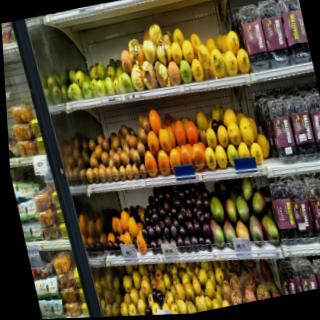fruit: (238, 0, 273, 71), (268, 176, 303, 245), (258, 0, 294, 67), (266, 94, 300, 162), (285, 93, 318, 155), (279, 0, 310, 64), (288, 183, 319, 243), (305, 173, 320, 244), (170, 115, 192, 155), (140, 150, 161, 183), (260, 210, 280, 242), (182, 118, 203, 147), (209, 48, 228, 79), (237, 116, 257, 145), (209, 219, 227, 251), (147, 107, 165, 139), (246, 211, 264, 242), (188, 139, 206, 169), (165, 58, 184, 86), (209, 193, 227, 222), (202, 142, 220, 170), (221, 219, 238, 248), (167, 146, 183, 176), (226, 119, 243, 147), (196, 43, 213, 70), (118, 47, 135, 73), (234, 193, 251, 219), (189, 56, 205, 83), (212, 143, 229, 168), (222, 197, 240, 220), (235, 47, 251, 72), (180, 38, 196, 63), (146, 131, 162, 156), (223, 52, 239, 76), (177, 58, 193, 82), (225, 30, 242, 52), (169, 42, 185, 65), (94, 60, 110, 82), (215, 125, 231, 147), (204, 127, 218, 148), (119, 71, 134, 90), (73, 67, 87, 86), (102, 75, 116, 94), (81, 79, 94, 98), (106, 65, 117, 81)
